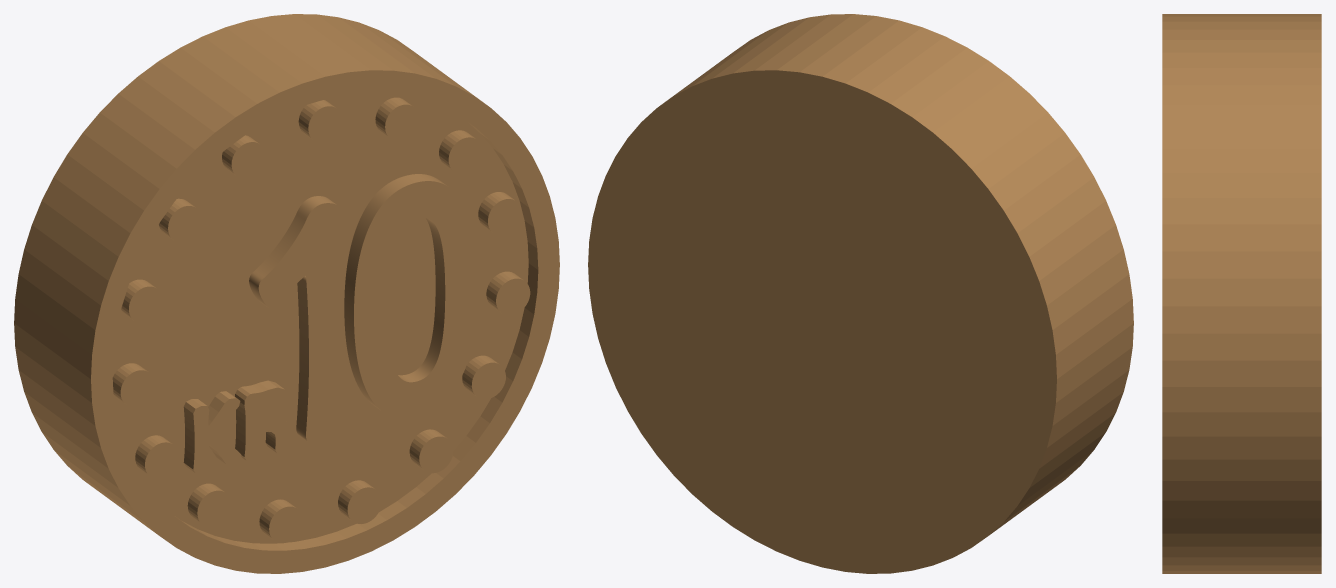
Rendered from sibwon.glb.
3 renders of one model, left to right at view 1: azimuth 30°, elevation 25°; view 2: azimuth 150°, elevation 25°; view 3: azimuth 270°, elevation 25°, orthographic. The views are drawn at different scales.
Parts seen in each view (by area): view 1: Circle.079; view 2: Circle.079; view 3: Circle.079.
Part boxes in pixels (x1,y1,x2,y2): Circle.079: (14,14,559,573); Circle.079: (588,14,1133,573); Circle.079: (1162,14,1321,573).
Bounding box in the file's own units: 14.09 × 14.09 × 4.
